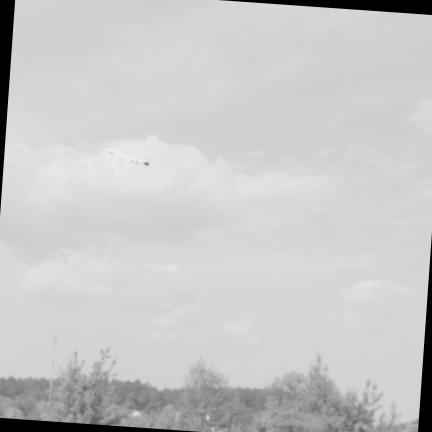Shahed: (108, 148, 150, 166)
